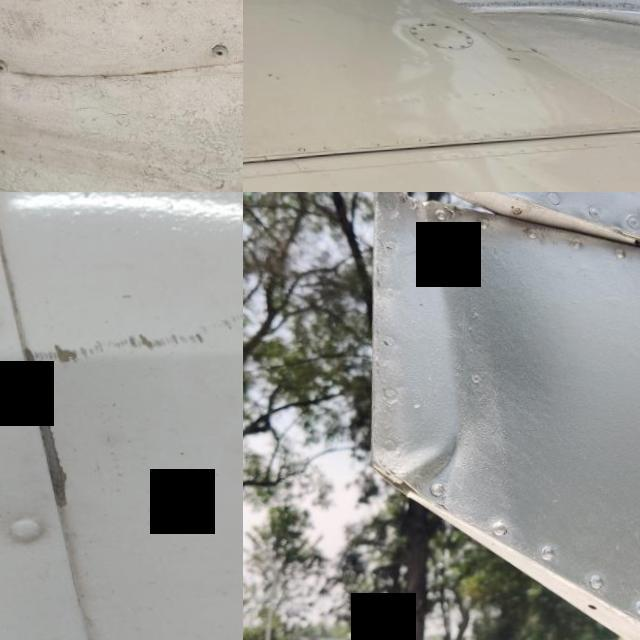Crack: (0, 293, 243, 513), (559, 6, 585, 12)
Dent: (366, 412, 478, 512)
